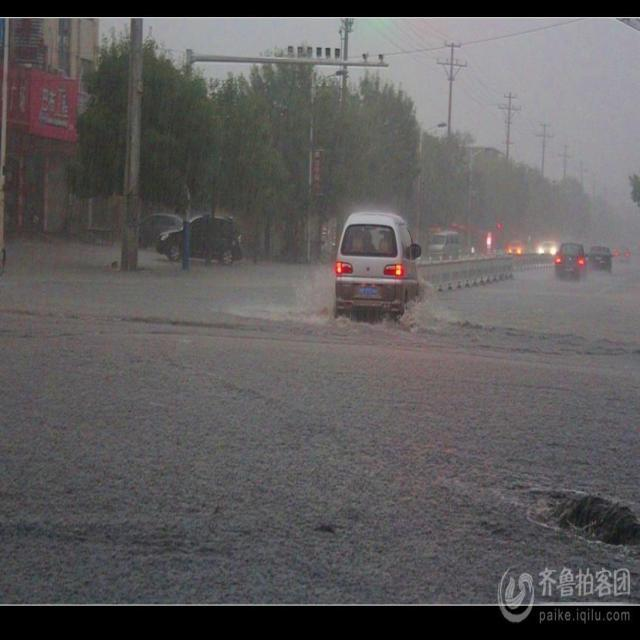car: (333, 209, 423, 320), (156, 210, 242, 268), (138, 210, 182, 247), (554, 240, 586, 278), (427, 228, 459, 258), (587, 244, 612, 271)
